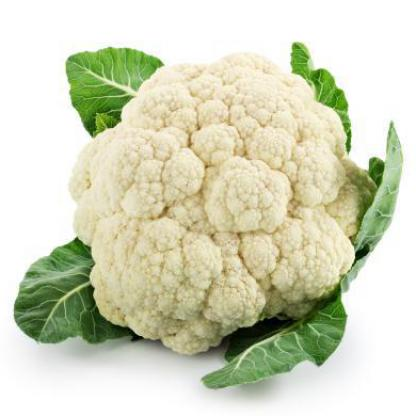cauliflower: (66, 54, 366, 345)
